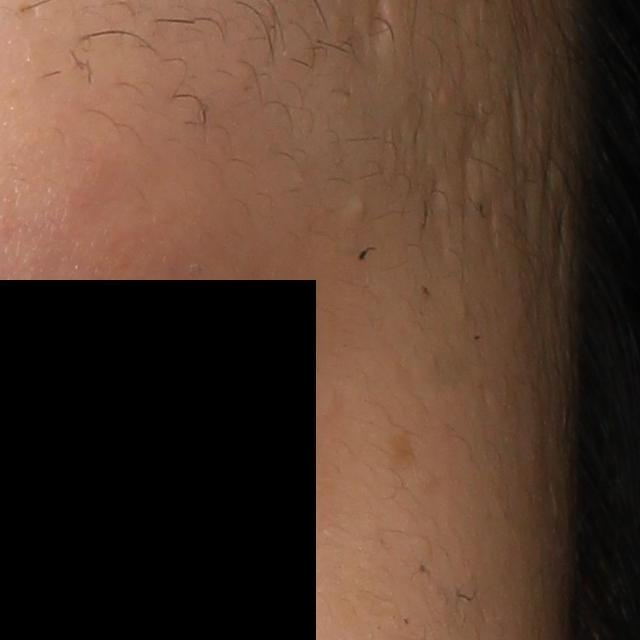comedo: (345, 190, 368, 219)
melasma: (388, 420, 418, 478)
